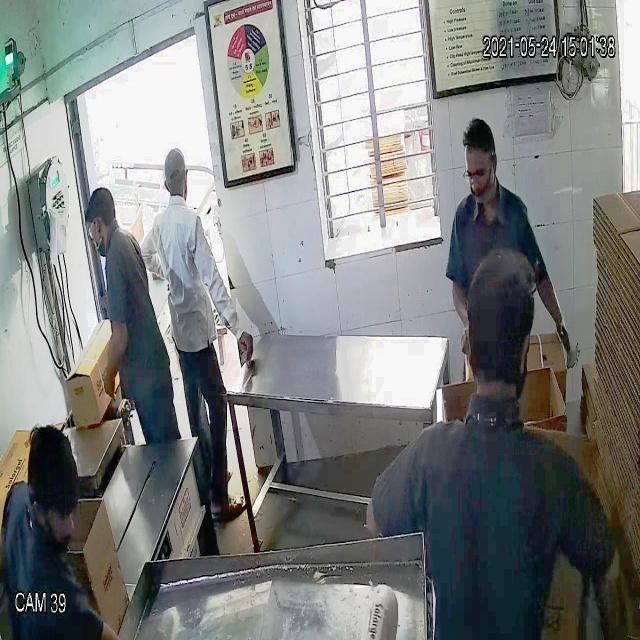Gafas: (462, 161, 497, 190)
